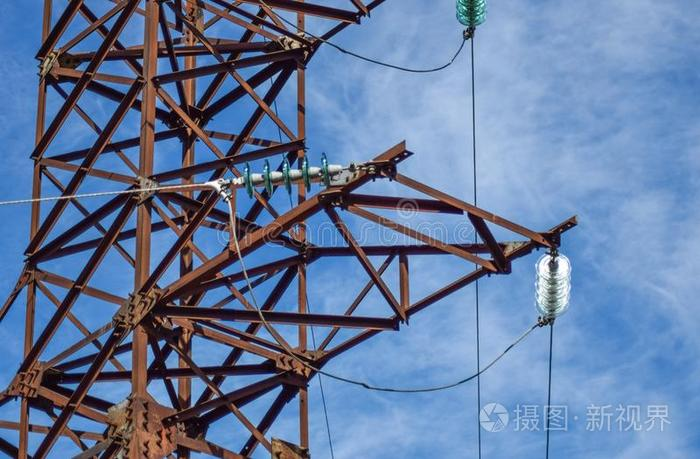insulator: (242, 153, 334, 200), (535, 254, 577, 318), (455, 1, 487, 31)
